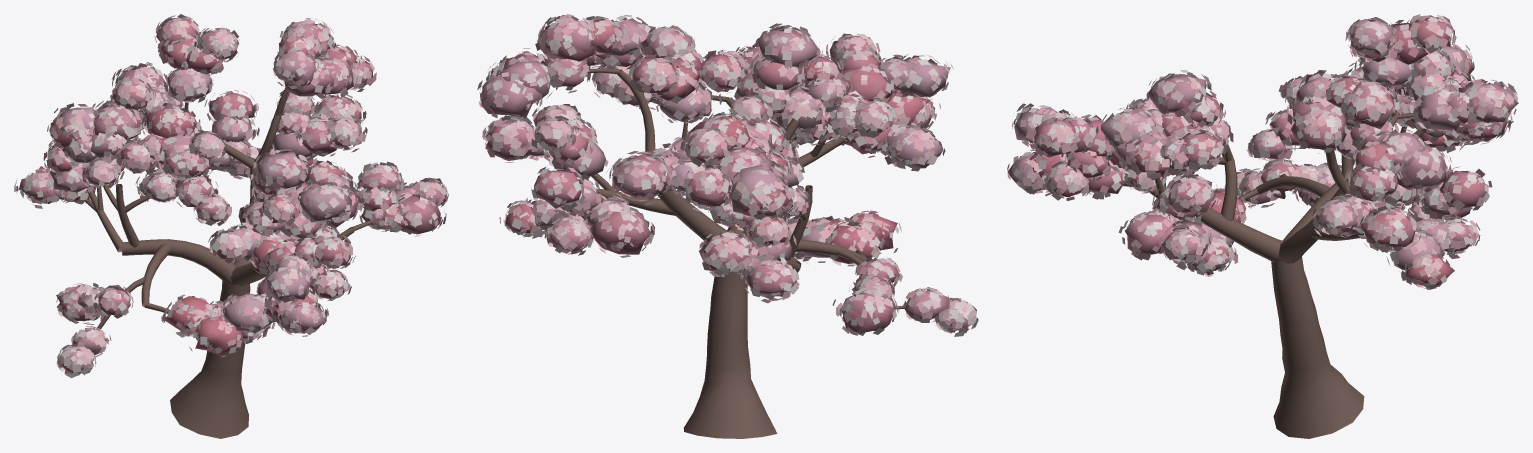
Rendered from cherryc.glb.
The picture shows the model from 3 angles, left to right: view 1: azimuth 30°, elevation 25°; view 2: azimuth 150°, elevation 25°; view 3: azimuth 270°, elevation 25°; orthographic projection. The views are drawn at different scales.
Parts seen in each view (by area): view 1: CherryC_flowers, CherryC_blossom, CherryC_bark; view 2: CherryC_flowers, CherryC_blossom, CherryC_bark; view 3: CherryC_flowers, CherryC_blossom, CherryC_bark.
Part boxes in pixels (left/top/right/bottom): CherryC_flowers: left=14, top=14, right=448, bottom=378; CherryC_blossom: left=18, top=18, right=446, bottom=373; CherryC_bark: left=85, top=87, right=372, bottom=438; CherryC_flowers: left=477, top=14, right=978, bottom=336; CherryC_blossom: left=481, top=16, right=970, bottom=333; CherryC_bark: left=587, top=54, right=905, bottom=438; CherryC_flowers: left=1007, top=14, right=1517, bottom=289; CherryC_blossom: left=1007, top=20, right=1518, bottom=285; CherryC_bark: left=1123, top=86, right=1424, bottom=438.
Size of the model in its own units: 6.53 by 6.27 by 6.9.
